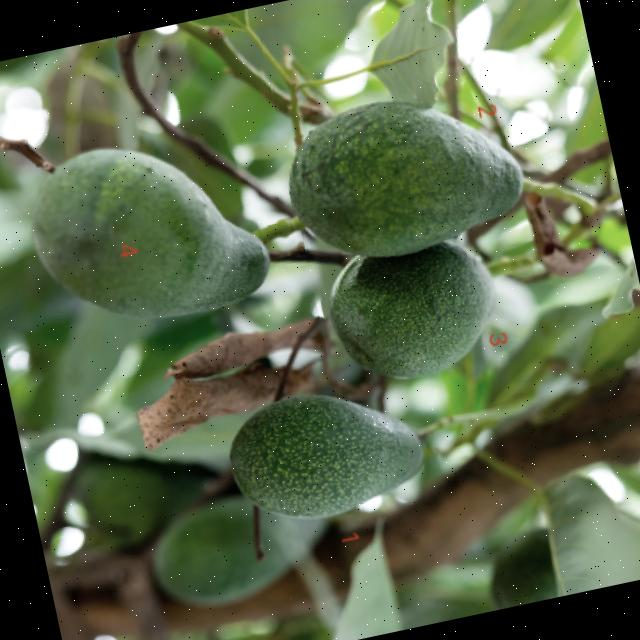fruit: (28, 146, 268, 322), (288, 100, 521, 256), (227, 397, 422, 519)
occludedfruit: (328, 240, 494, 384), (152, 502, 324, 600)
peduncle: (413, 393, 550, 441), (521, 177, 594, 216), (252, 216, 301, 251), (483, 252, 540, 278)
